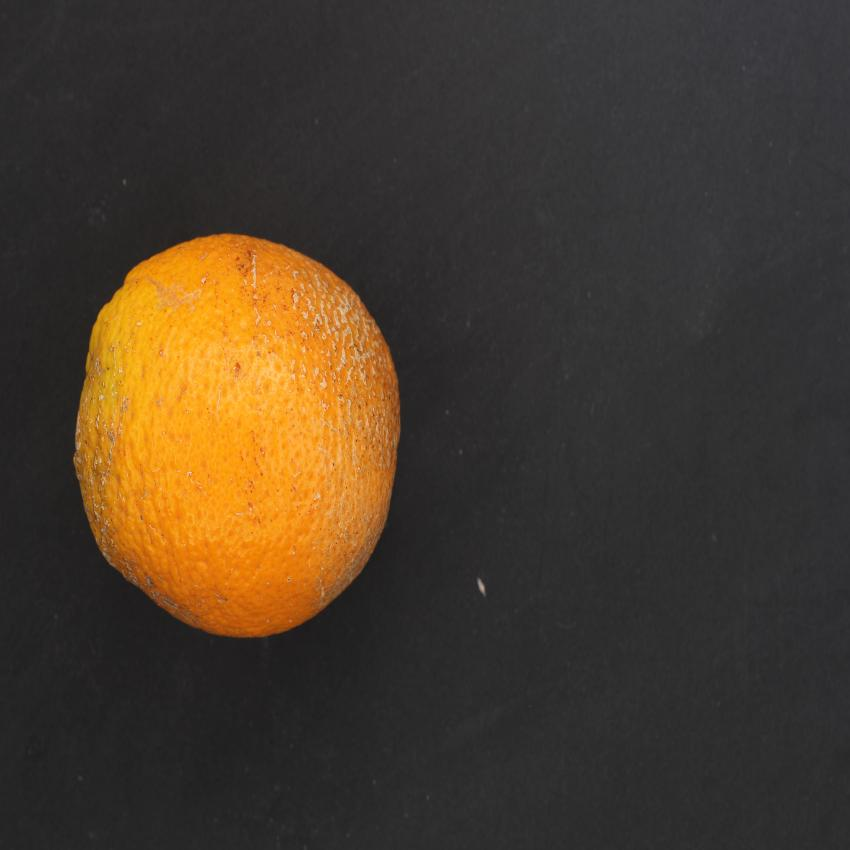Mal estado: (68, 226, 415, 656)
